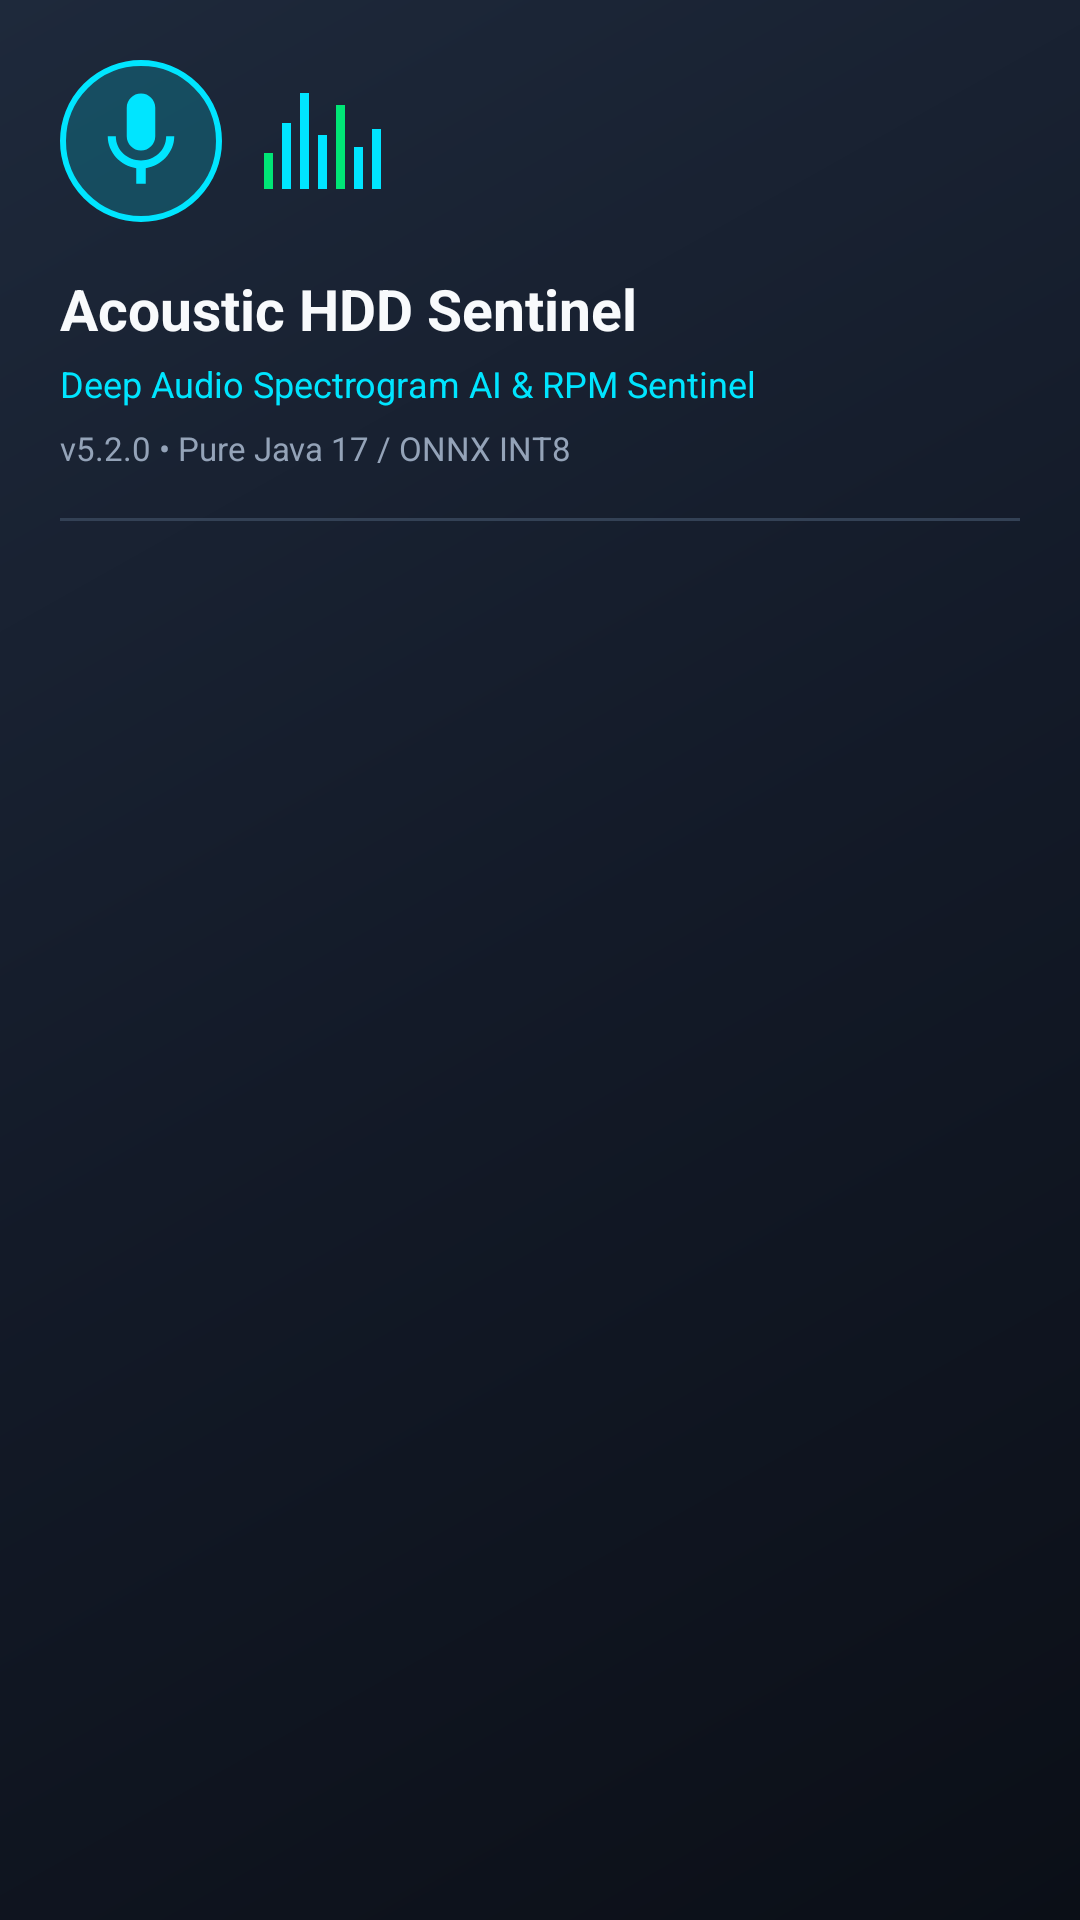

Icons on this 1080 x 1920 Android screen, each with the point to tap as (x=x, y=y):
mic radar: (x=141, y=138)
